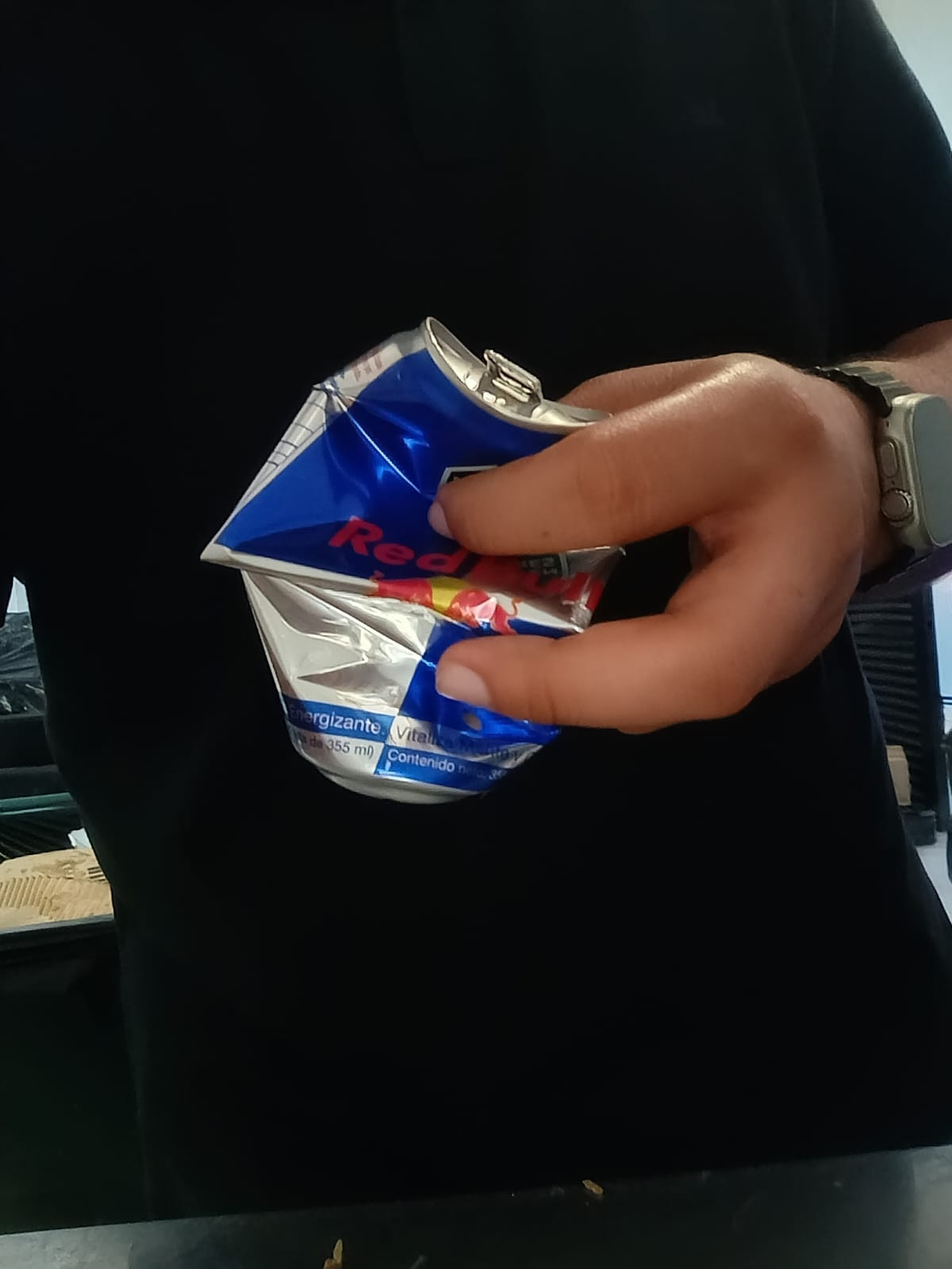Metal: (204, 317, 627, 805)
